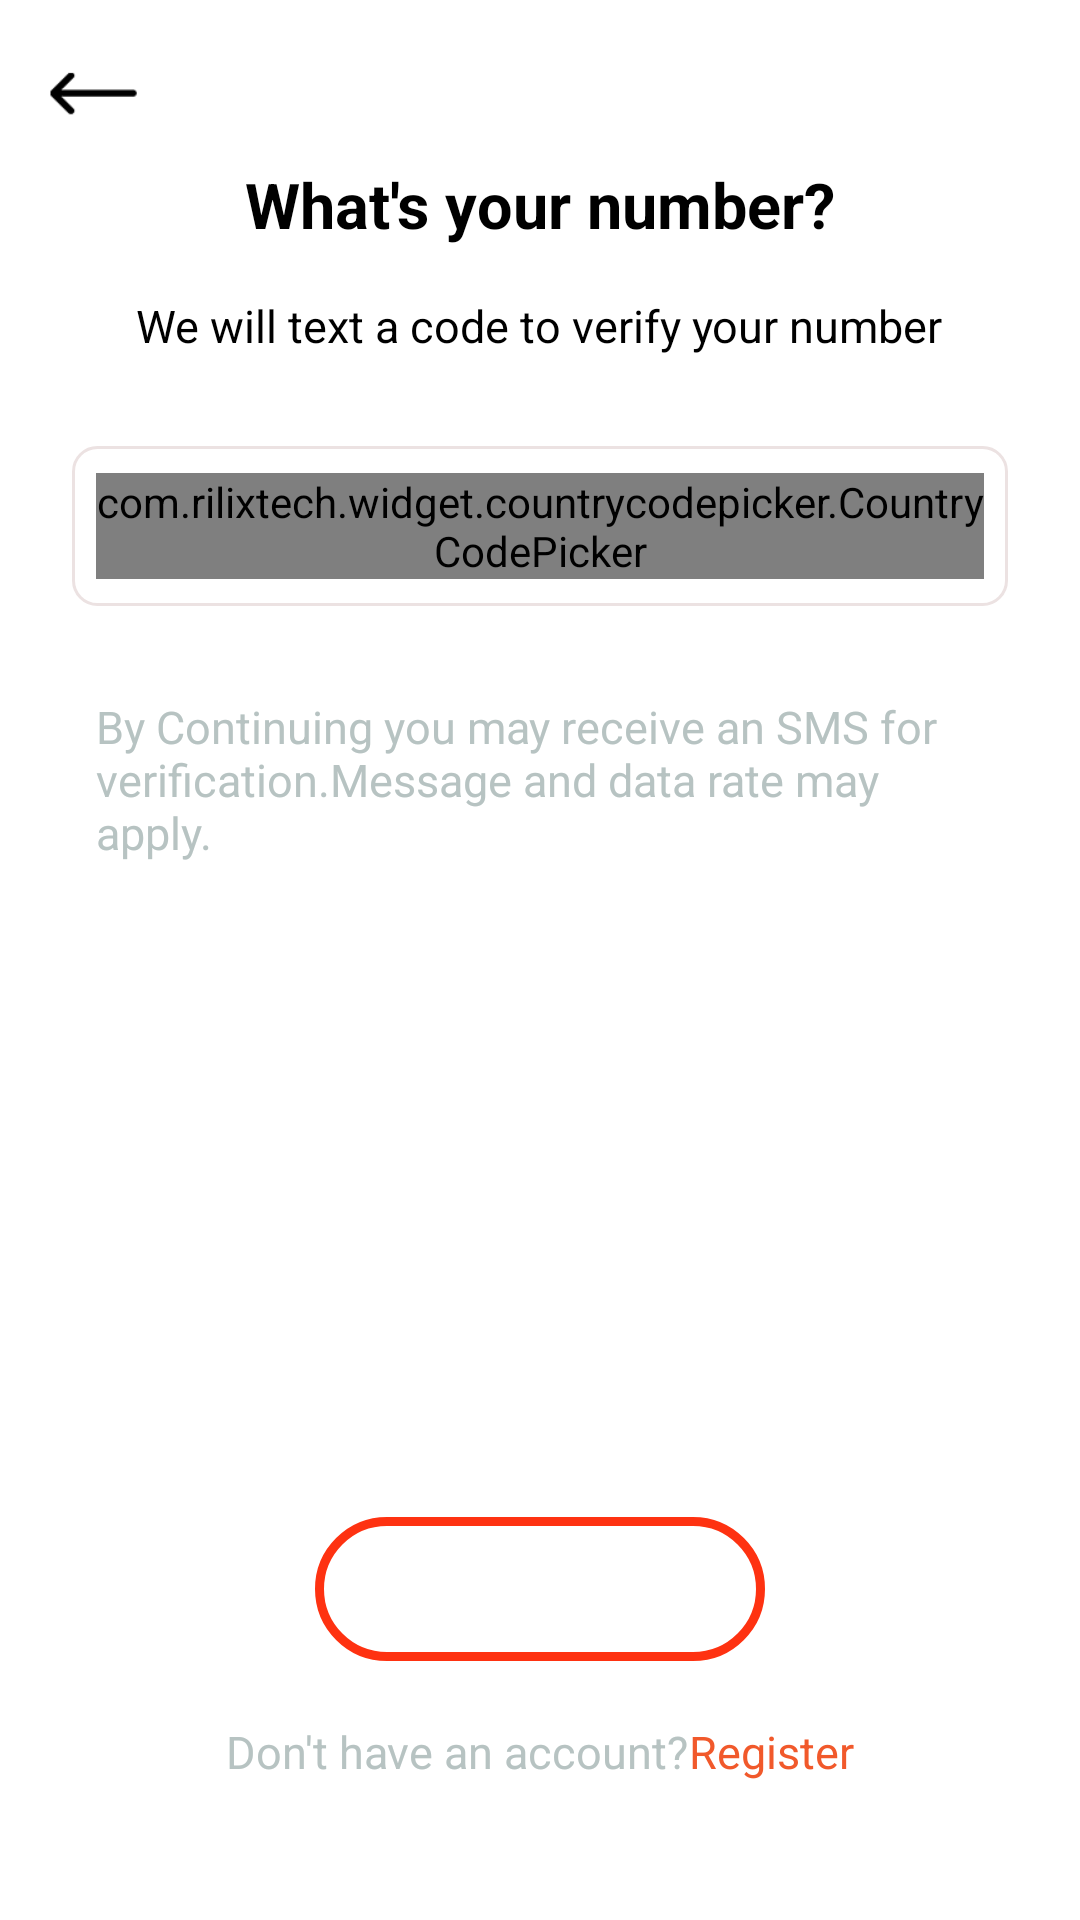

Screen size 1080px x 1920px. Icon name, then its box in pixels as (x1, y1, x2, y2):
backarrow: (50, 72, 137, 115)
